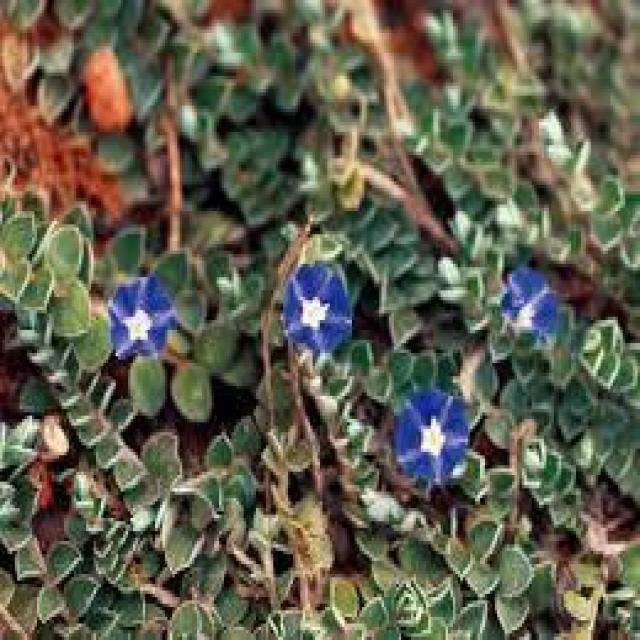organic waste: (387, 388, 478, 493), (279, 251, 363, 353), (491, 259, 570, 341), (110, 266, 176, 358)
